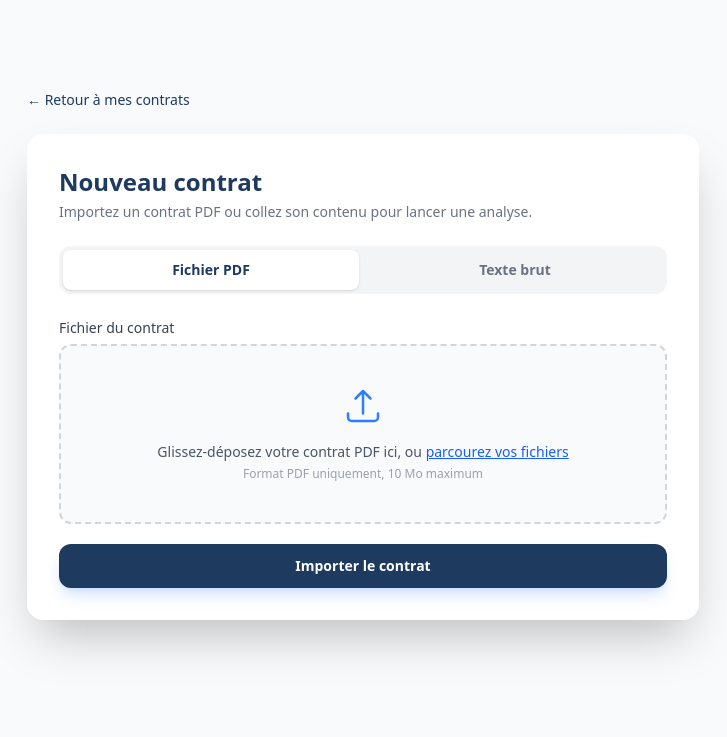
ContractNewPage › displays the character counter in text mode
The image size is (727, 737).
Click the button "Texte brut": point(515, 270) [367,250,663,290]
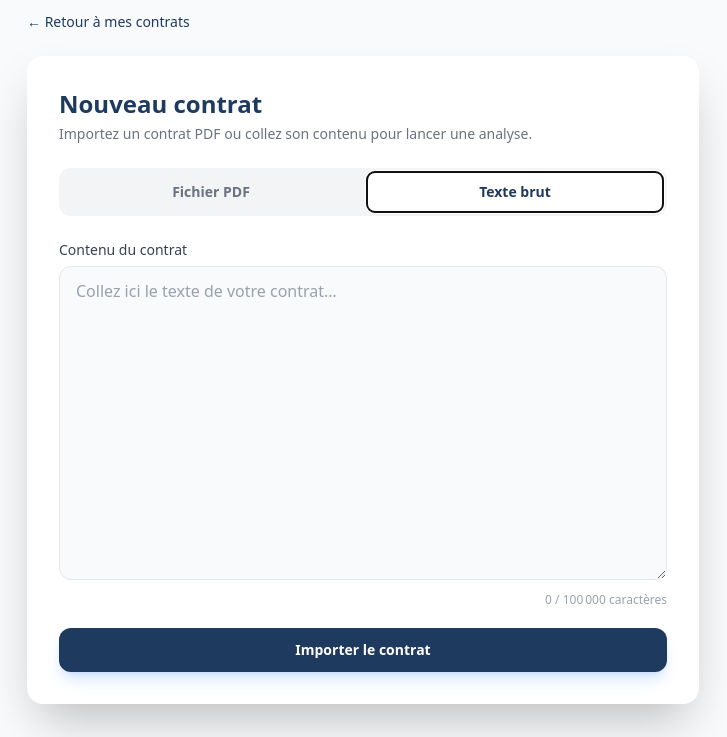
In the text box labelled "Contenu du contrat": point(363, 423) [59,266,667,580], type "Bail de location"
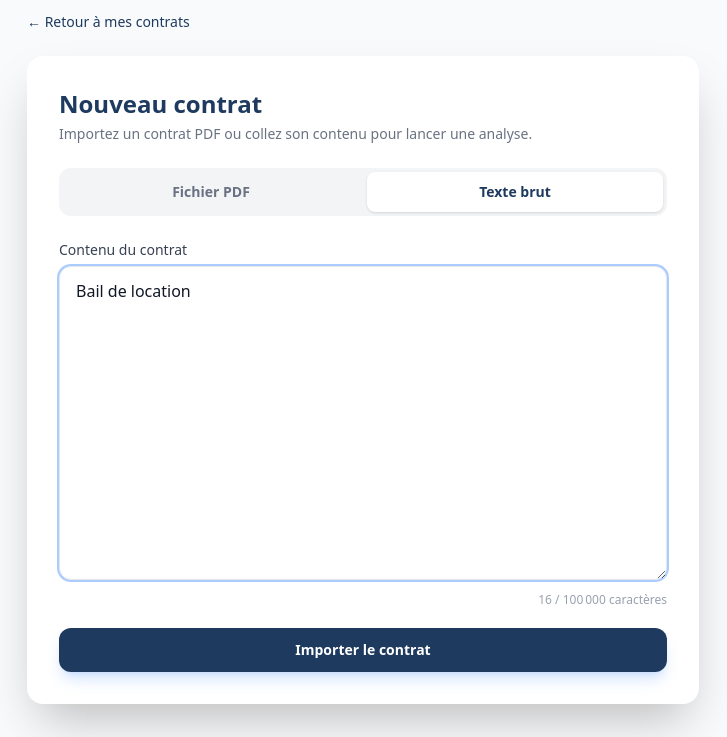
Expected: the text "16 / 100 000 caractères" is shown, [538,591,667,608]
